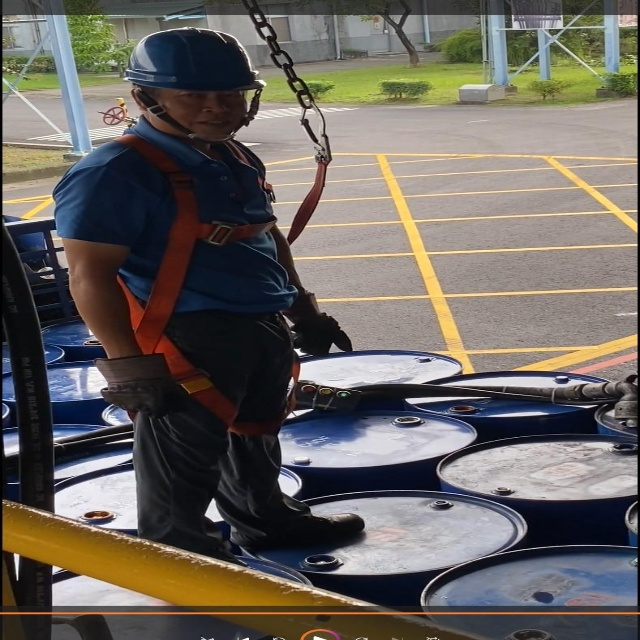Arnes_seguridad: (101, 134, 298, 431)
